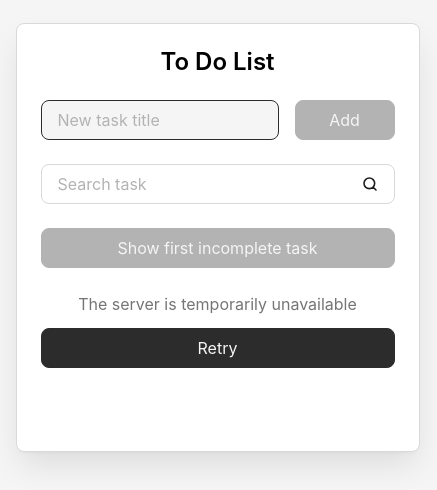
Test: Todo › renders tasks loaded after retry
Expected: the text "The server is temporarily unavailable" is shown, 78,294 -> 357,314
Click the button "Retry". click: (218, 348)
box: 40,328 -> 394,368
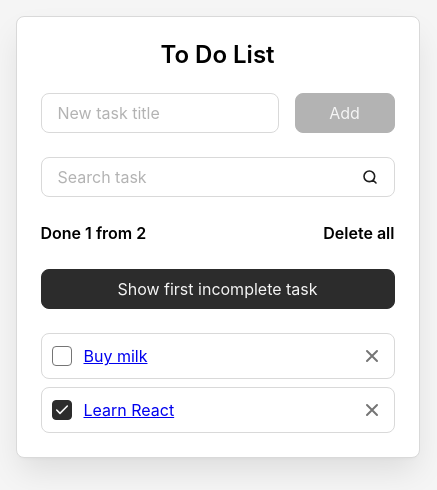
Result: the checkbox named "Buy milk" next to "Buy milk" is shown at 52,346 -> 72,366
Result: the checkbox named "Learn React" next to "Learn React" is checked at 52,400 -> 72,420
